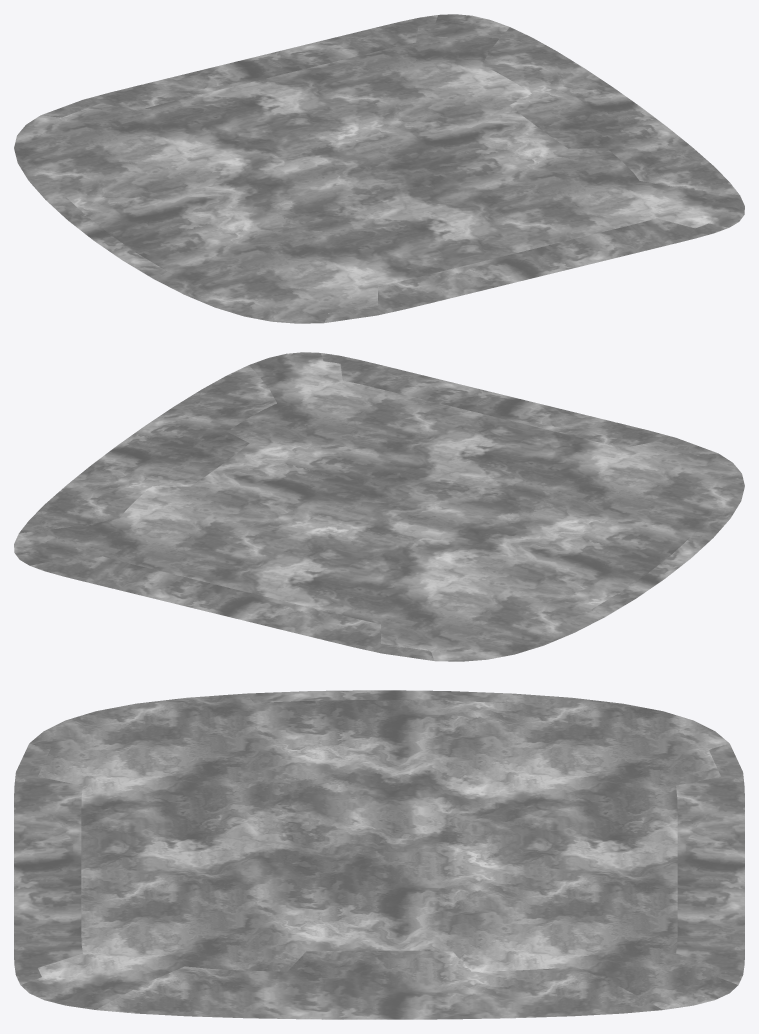
The model's file is SM_ground_grass.fbx.
3 renders of one model, top to bottom at view 1: azimuth 30°, elevation 25°; view 2: azimuth 150°, elevation 25°; view 3: azimuth 270°, elevation 25°, orthographic. The views are drawn at different scales.
Visible parts, largest first — view 1: SM_ground_grass; view 2: SM_ground_grass; view 3: SM_ground_grass.
Boxes of the visible parts, box(x1,y1,x2,y2) form: SM_ground_grass: box(14, 14, 744, 323); SM_ground_grass: box(14, 352, 744, 661); SM_ground_grass: box(14, 690, 744, 1019).
Bounding box in the file's own units: 761 × 713 × 8.73.
1 material, 1 textured.
